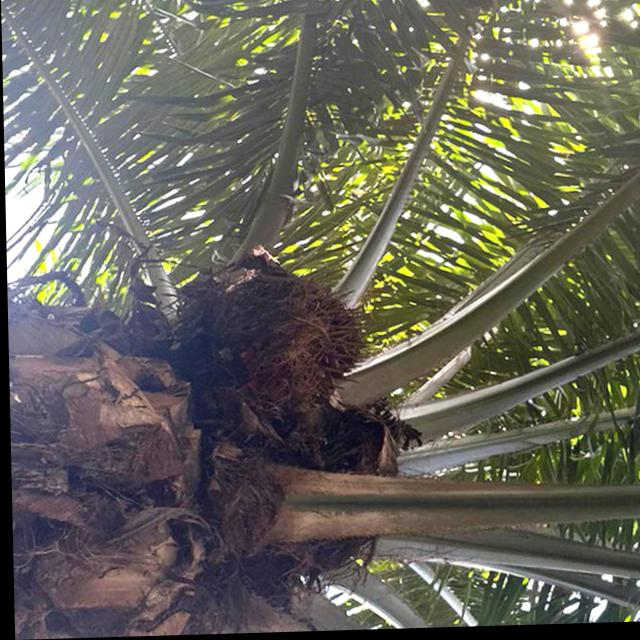ripe: (189, 254, 380, 432)
